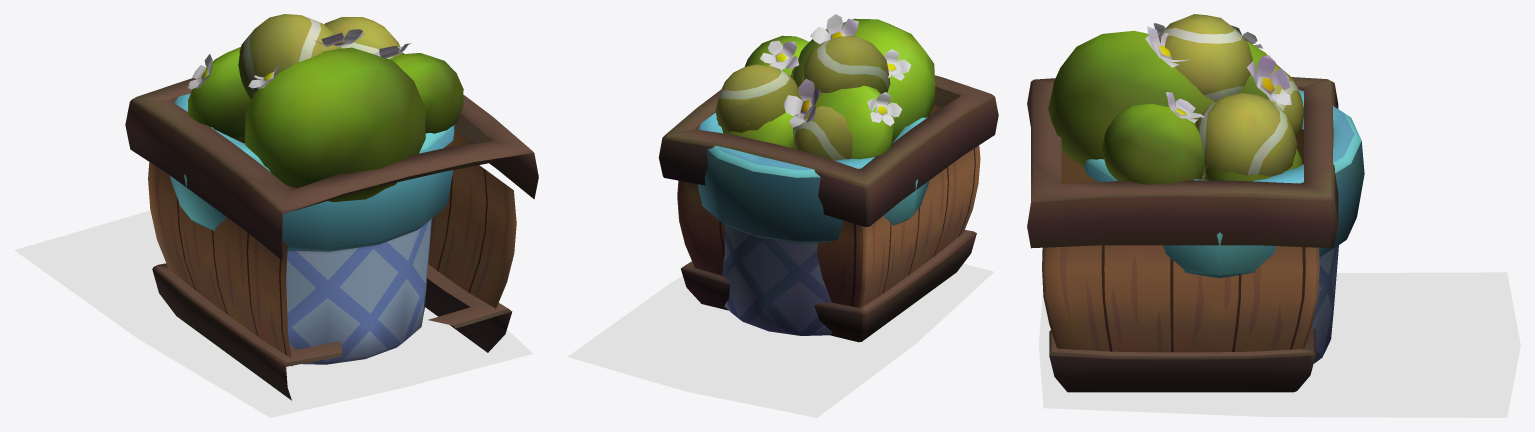
The model's file is city_staticSingle_flowerPot.fbx.
3 renders of one model, left to right at view 1: azimuth 30°, elevation 25°; view 2: azimuth 150°, elevation 25°; view 3: azimuth 270°, elevation 25°, orthographic. The views are drawn at different scales.
Parts seen in each view (by area): view 1: city_staticSingle_flowerPot, city_staticSingle_flowerPot_SummerSports, flowerPotShadow; view 2: city_staticSingle_flowerPot, city_staticSingle_flowerPot_SummerSports, flowerPotShadow; view 3: city_staticSingle_flowerPot, flowerPotShadow, city_staticSingle_flowerPot_SummerSports.
Part boxes in pixels (left/top/right/bottom): city_staticSingle_flowerPot: left=125, top=29, right=538, bottom=400; city_staticSingle_flowerPot_SummerSports: left=170, top=14, right=454, bottom=364; flowerPotShadow: left=14, top=210, right=533, bottom=417; city_staticSingle_flowerPot: left=658, top=14, right=998, bottom=342; city_staticSingle_flowerPot_SummerSports: left=698, top=36, right=929, bottom=335; flowerPotShadow: left=567, top=263, right=993, bottom=417; city_staticSingle_flowerPot: left=1027, top=23, right=1338, bottom=392; flowerPotShadow: left=1038, top=272, right=1520, bottom=417; city_staticSingle_flowerPot_SummerSports: left=1084, top=14, right=1364, bottom=363.
Bounding box in the file's own units: 105 × 105 × 150.
